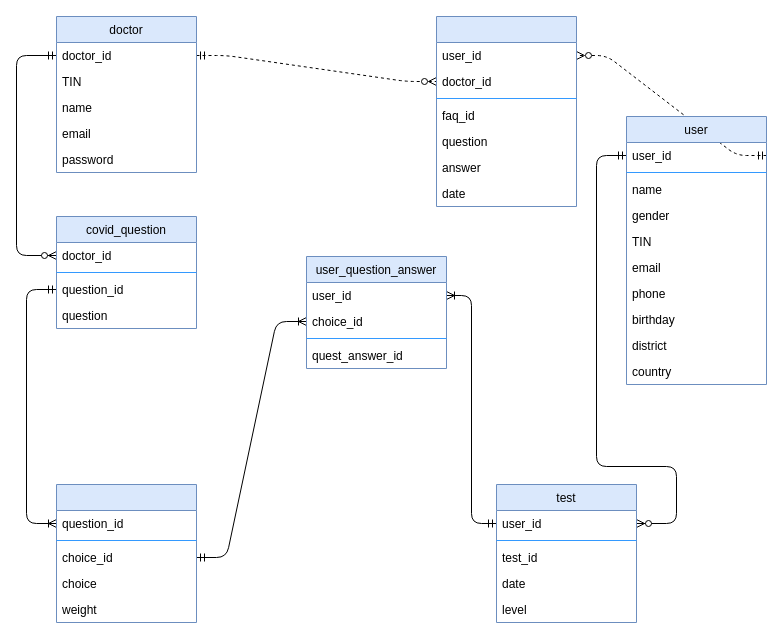
Some shapes in this 783 by 639 pixel diagram are drawn without their labels. Here are the shapes that lost their labels. From the top down, the box of each, then its label:
(436, 16, 576, 206): FAQs
(56, 484, 196, 622): question_choices
